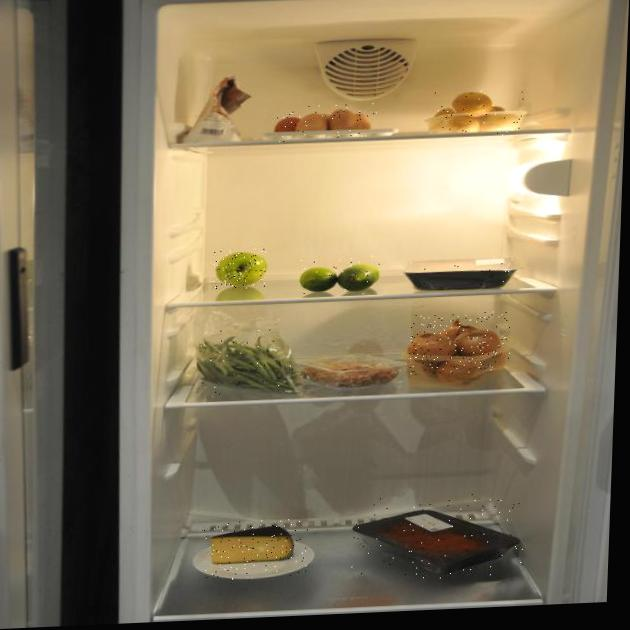apple: (213, 248, 266, 290)
cheese: (201, 518, 309, 581)
eggs: (275, 103, 381, 143)
green beans: (195, 326, 295, 404)
lime: (297, 256, 382, 297)
meat: (347, 492, 526, 583), (397, 256, 515, 291)
onion: (407, 311, 512, 375)
potatoes: (426, 87, 525, 141)
